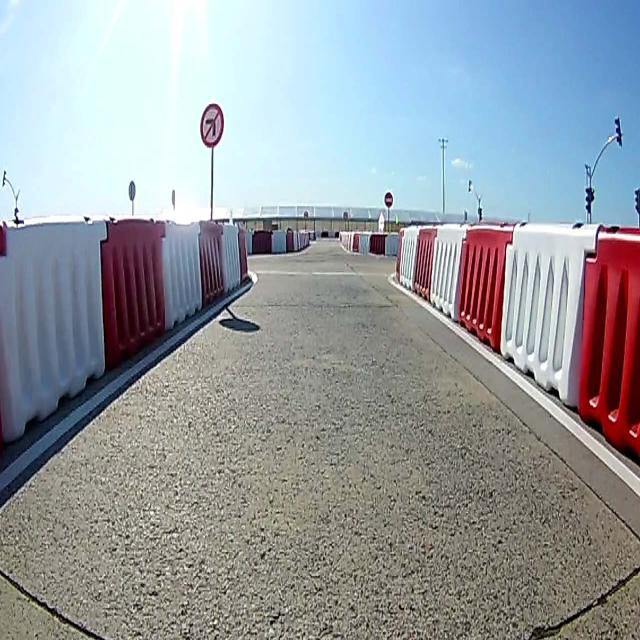girisyok: (383, 192, 395, 208)
soladonulmez: (201, 103, 223, 150)
